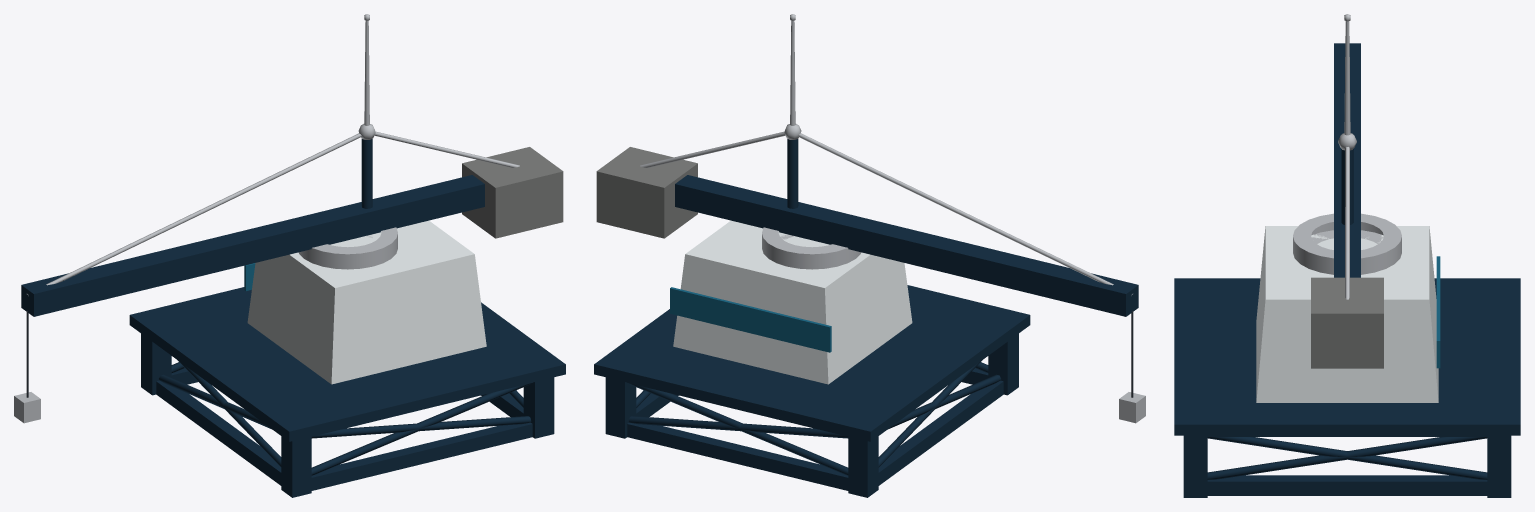
The model's file is world_gantry_crown.glb.
3 views of the same model, side by side, from view 1: azimuth 30°, elevation 25°; view 2: azimuth 150°, elevation 25°; view 3: azimuth 270°, elevation 25° (orthographic). The views are drawn at different scales.
Parts seen in each view (by area): view 1: world_gantry_crown_mesh; view 2: world_gantry_crown_mesh; view 3: world_gantry_crown_mesh.
Part boxes in pixels (bbox=[...]): world_gantry_crown_mesh: bbox=[14, 14, 565, 497]; world_gantry_crown_mesh: bbox=[594, 14, 1145, 497]; world_gantry_crown_mesh: bbox=[1174, 14, 1520, 497].
Bounding box in the file's own units: 10.88 × 7.72 × 5.7.
